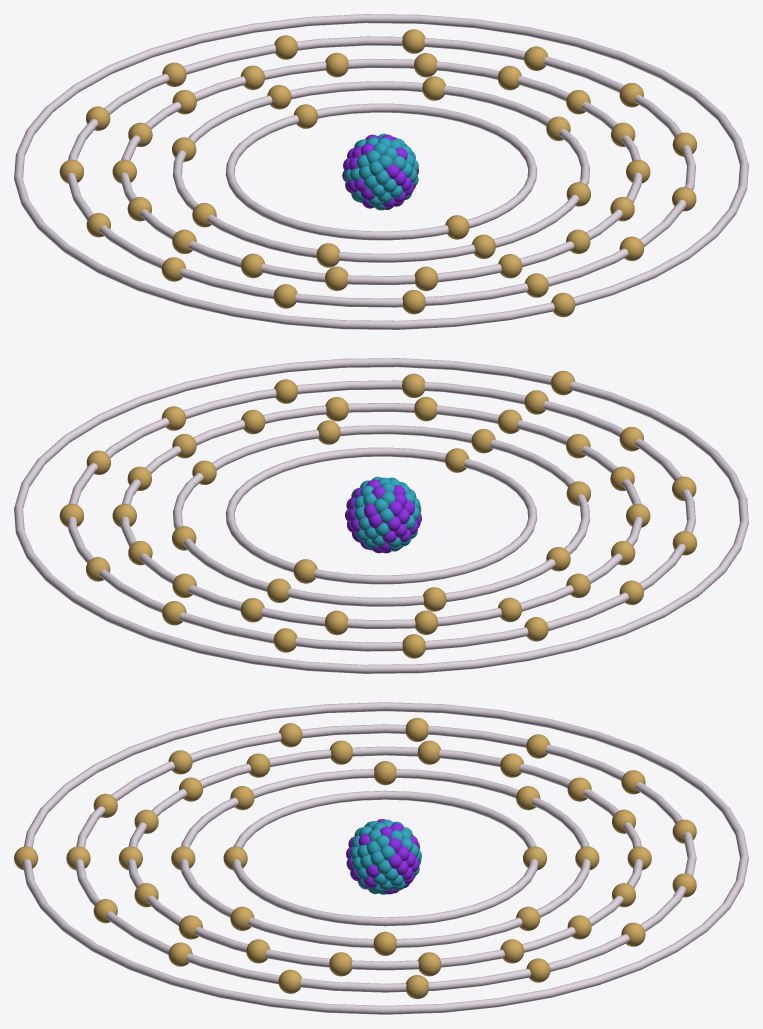
Rendered from rutenio.glb.
3 views of the same model, one above another, from view 1: azimuth 30°, elevation 25°; view 2: azimuth 150°, elevation 25°; view 3: azimuth 270°, elevation 25° (orthographic).
Parts seen in each view (by area): view 1: Orbita_5, Orbita_4, Orbita_3, Orbita_2, Orbita_1, Nucleo_Completo; view 2: Orbita_5, Orbita_4, Orbita_3, Orbita_2, Orbita_1, Nucleo_Completo; view 3: Orbita_5, Orbita_4, Orbita_3, Orbita_2, Orbita_1, Nucleo_Completo.
Part boxes in pixels (bbox=[...]): Orbita_5: bbox=[14, 14, 748, 329]; Orbita_4: bbox=[67, 36, 695, 307]; Orbita_3: bbox=[120, 58, 642, 285]; Orbita_2: bbox=[173, 81, 589, 262]; Orbita_1: bbox=[225, 103, 537, 240]; Nucleo_Completo: bbox=[342, 133, 418, 210]; Orbita_5: bbox=[14, 358, 748, 673]; Orbita_4: bbox=[67, 380, 695, 651]; Orbita_3: bbox=[120, 402, 642, 629]; Orbita_2: bbox=[173, 425, 589, 606]; Orbita_1: bbox=[225, 447, 537, 584]; Nucleo_Completo: bbox=[345, 476, 421, 553]; Orbita_5: bbox=[22, 702, 748, 1014]; Orbita_4: bbox=[75, 724, 696, 992]; Orbita_3: bbox=[127, 746, 643, 970]; Orbita_2: bbox=[179, 769, 590, 947]; Orbita_1: bbox=[232, 790, 538, 926]; Nucleo_Completo: bbox=[346, 819, 421, 894].
Size of the model in its own units: 4.86 by 0.508 by 4.91.
